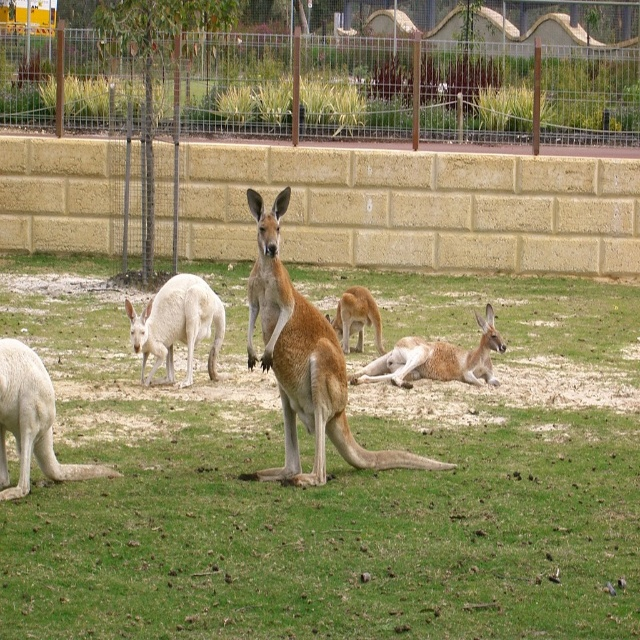Kangaroo: (0, 186, 507, 501)
